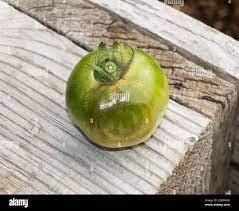tomato late blight: (65, 42, 170, 151)
